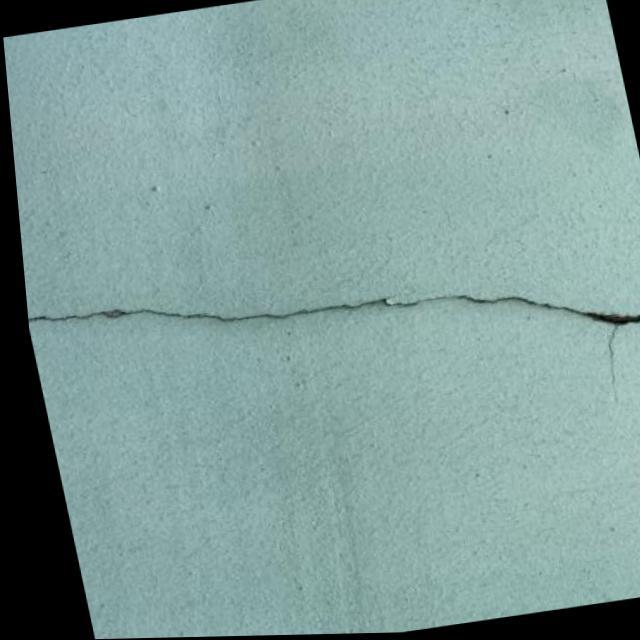Crack: (36, 291, 634, 330)
